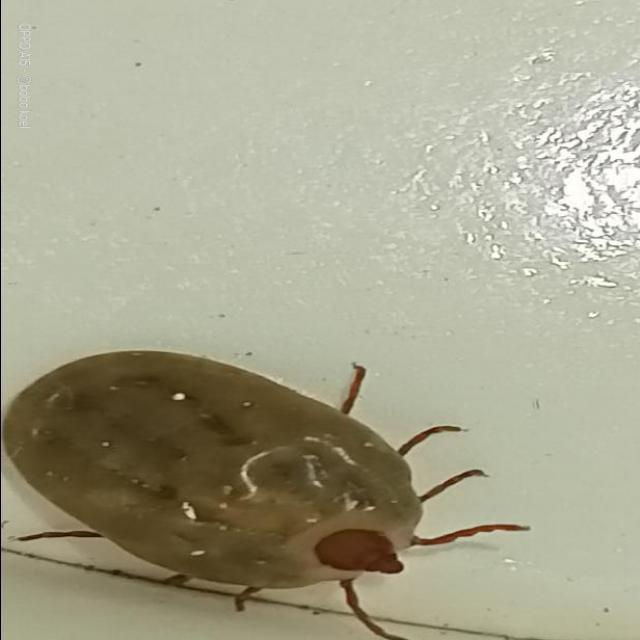Rhipicephalus Sanguineus-F-Fed: (0, 350, 529, 640)
